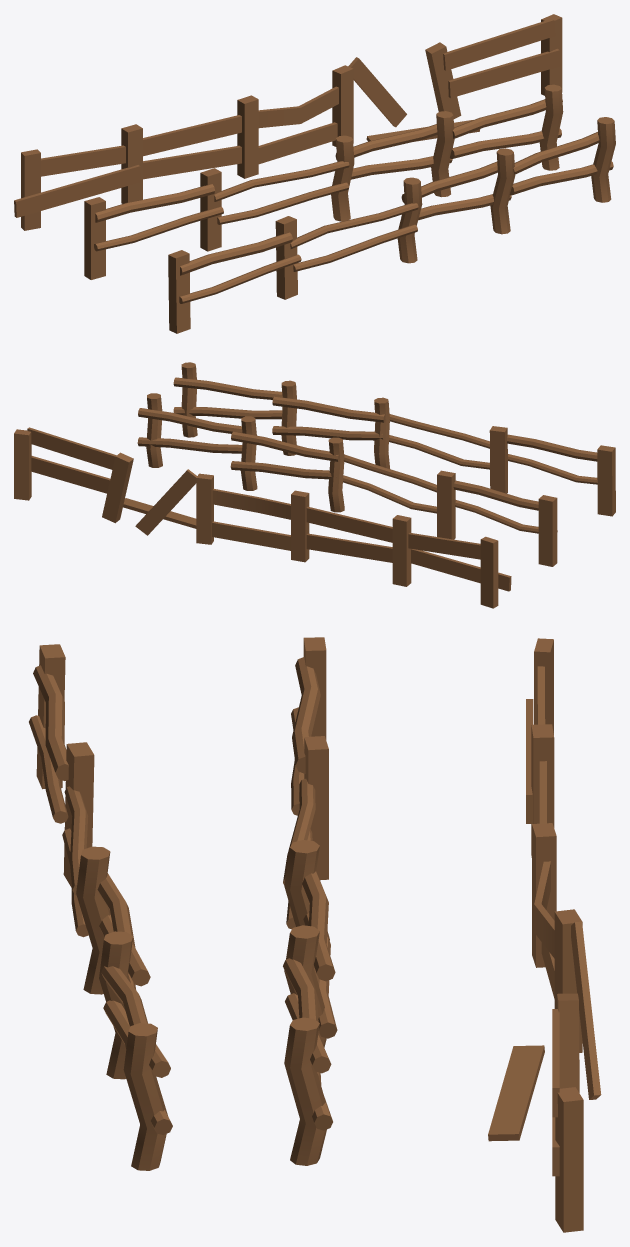
Rendered from fence_ragdoll.fbx.
3 renders of one model, top to bottom at view 1: azimuth 30°, elevation 25°; view 2: azimuth 150°, elevation 25°; view 3: azimuth 270°, elevation 25°, orthographic. The views are drawn at different scales.
Parts seen in each view (by area): view 1: fence, fence_1, fence_2; view 2: fence, fence_1, fence_2; view 3: fence, fence_2, fence_1.
Boxes of the visible parts, x1,y1,x2,y2 form: fence: [14, 14, 562, 230]; fence_1: [84, 84, 563, 279]; fence_2: [168, 117, 615, 333]; fence: [14, 427, 511, 608]; fence_1: [137, 393, 557, 566]; fence_2: [173, 362, 615, 516]; fence: [488, 638, 601, 1232]; fence_2: [29, 644, 172, 1170]; fence_1: [283, 637, 337, 1165].
Bounding box in the file's own units: 35.84 × 5.05 × 18.3.
